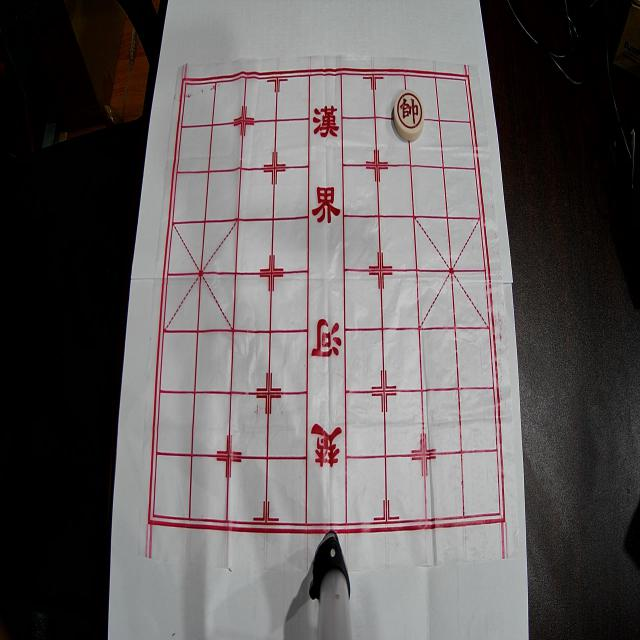red-general: (394, 90, 424, 142)
